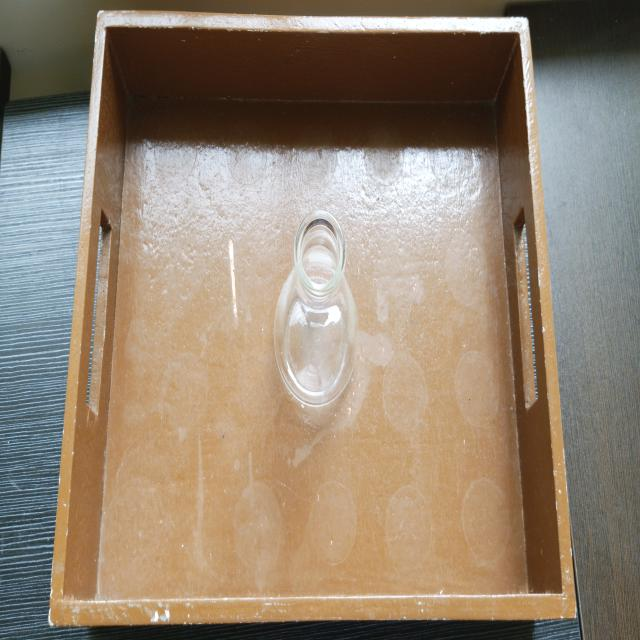erlenmeyer_flask: (269, 206, 371, 415)
